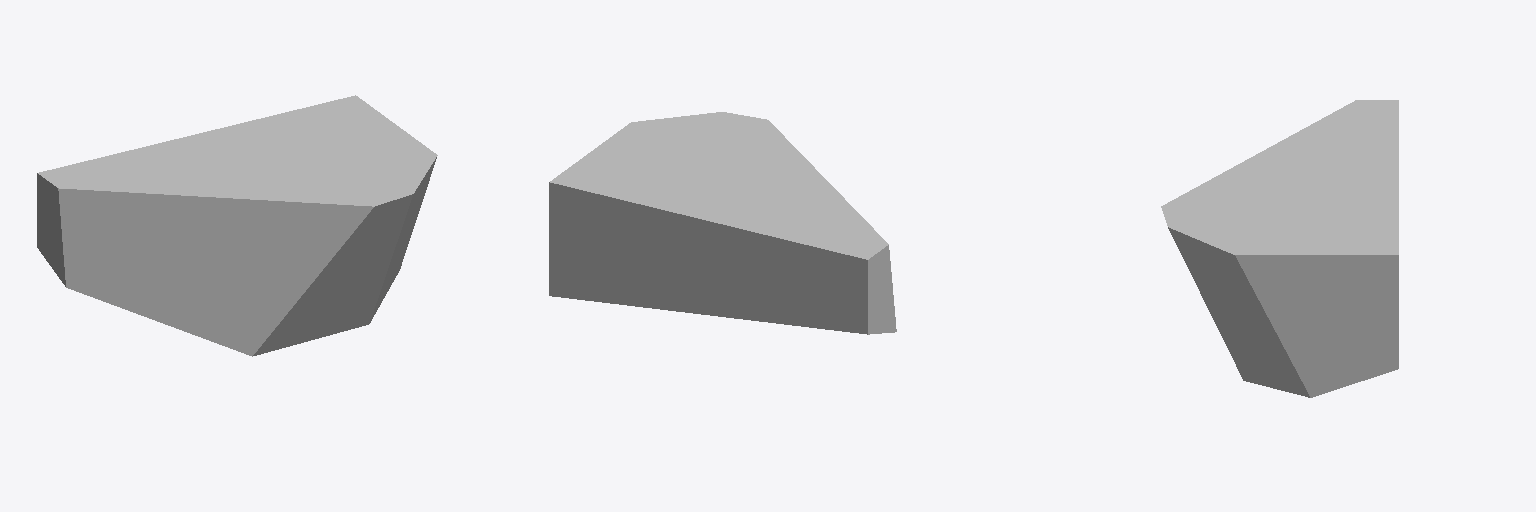
The model's file is CubeShatter03.obj.
3 renders of one model, left to right at view 1: azimuth 30°, elevation 25°; view 2: azimuth 150°, elevation 25°; view 3: azimuth 270°, elevation 25°, orthographic.
Parts seen in each view (by area): view 1: CubeShatter03; view 2: CubeShatter03; view 3: CubeShatter03.
Boxes of the visible parts, <box> form: CubeShatter03: <box>37,95,437,356</box>; CubeShatter03: <box>549,112,896,334</box>; CubeShatter03: <box>1161,100,1398,397</box>.
Bounding box in the file's own units: 2 × 0.9401 × 1.29.